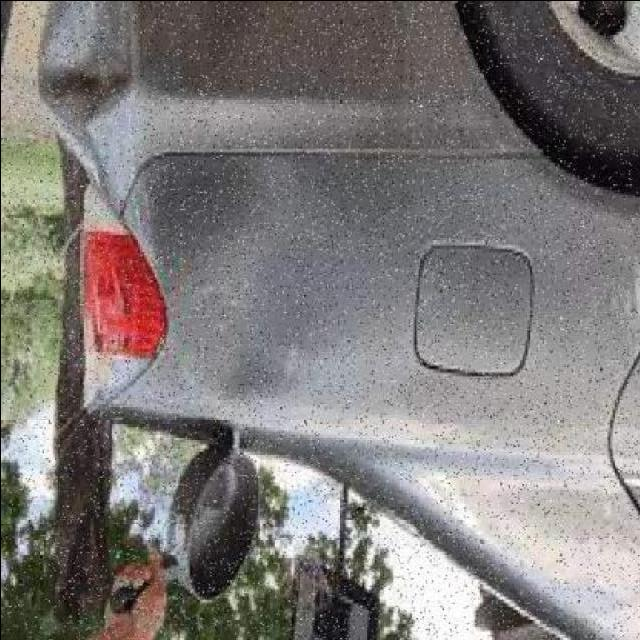quaterpanel-dent: (159, 104, 623, 448)
rear-bumper-dent: (11, 3, 295, 217)
